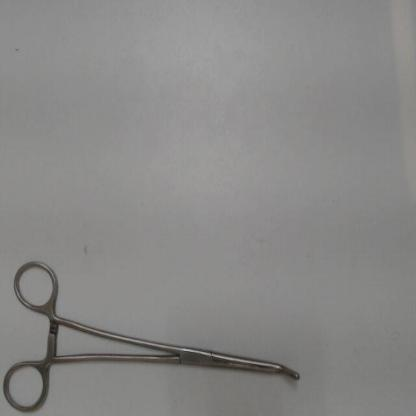Lahey Forceps: (0, 253, 305, 413)
